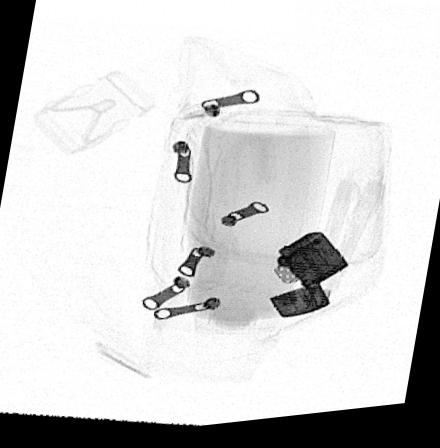Lighter: (269, 240, 349, 325)
